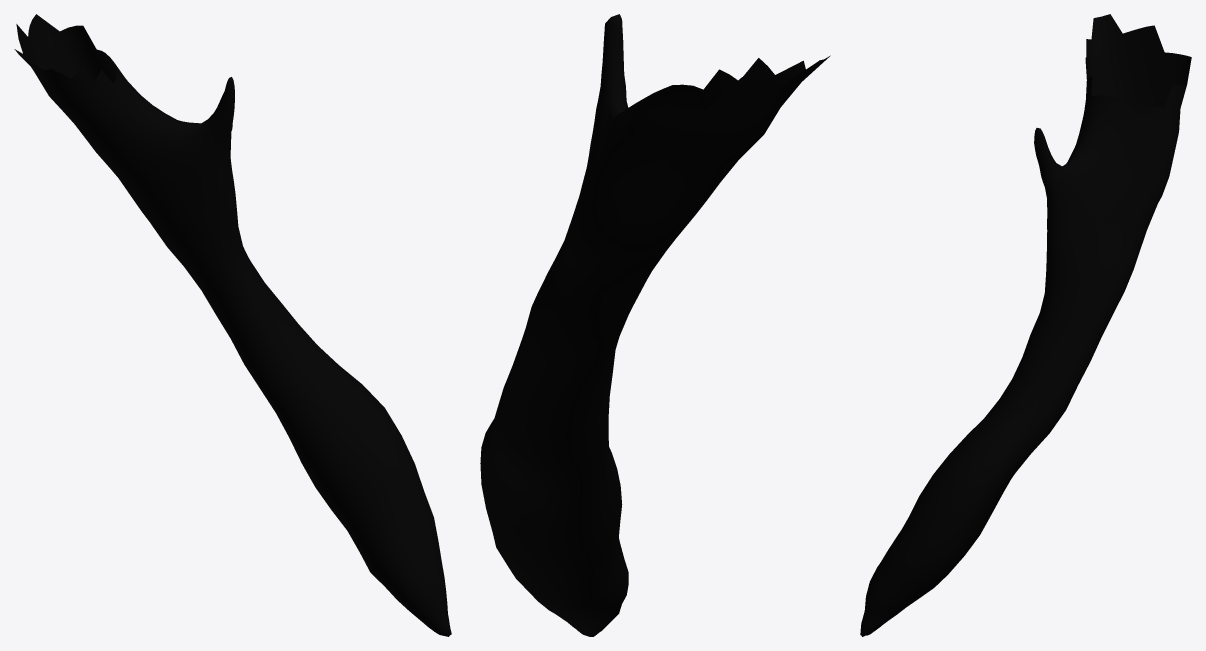
The model's file is Pie2A.obj.
3 renders of one model, left to right at view 1: azimuth 30°, elevation 25°; view 2: azimuth 150°, elevation 25°; view 3: azimuth 270°, elevation 25°, orthographic. The views are drawn at different scales.
Parts seen in each view (by area): view 1: Pie2A; view 2: Pie2A; view 3: Pie2A.
Part boxes in pixels (x1,y1,x2,y2): Pie2A: [14, 14, 451, 636]; Pie2A: [480, 14, 830, 636]; Pie2A: [860, 14, 1191, 636].
Bounding box in the file's own units: 0.3864 × 0.6597 × 0.4001.
1 material, 1 textured.
